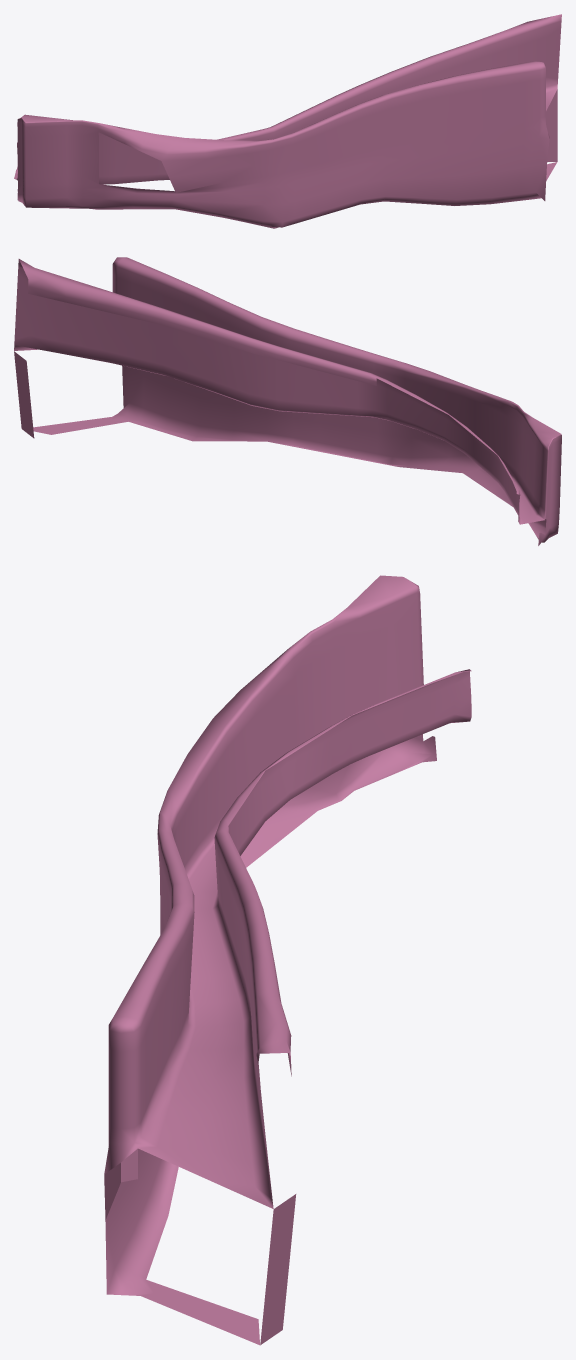
The model's file is terrain_W3A3.fbx.
3 views of the same model, one above another, from view 1: azimuth 30°, elevation 25°; view 2: azimuth 150°, elevation 25°; view 3: azimuth 270°, elevation 25° (orthographic). The views are drawn at different scales.
Parts seen in each view (by area): view 1: W3A3_mesh; view 2: W3A3_mesh; view 3: W3A3_mesh.
Boxes of the visible parts, x1,y1,x2,y2 form: W3A3_mesh: [14, 14, 561, 228]; W3A3_mesh: [14, 257, 561, 545]; W3A3_mesh: [104, 575, 471, 1345].
Size of the model in its own units: 46024 by 12867 by 14491.
